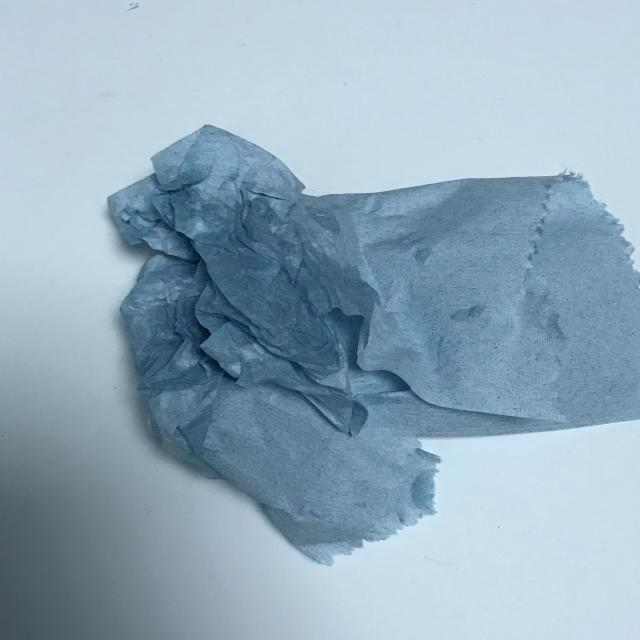paper: (88, 115, 640, 569)
